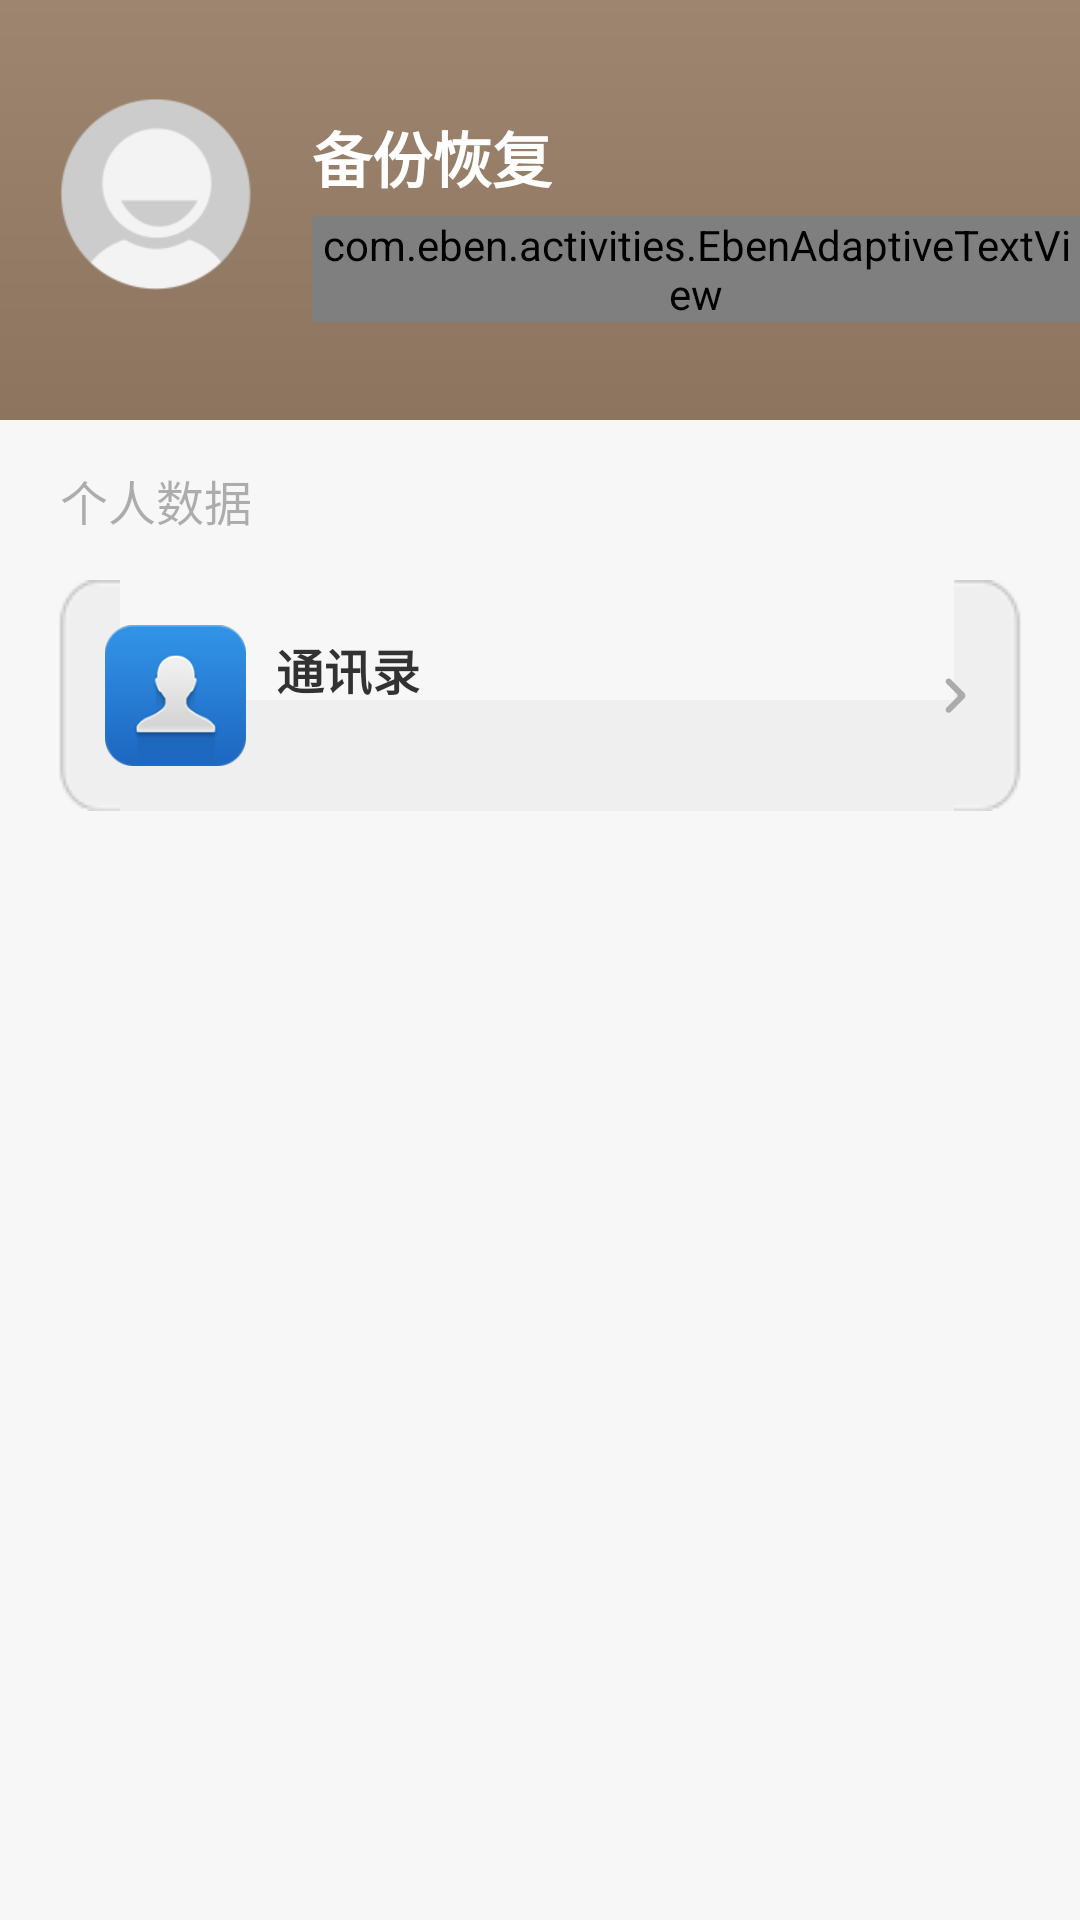

Screen size 1080x1920. Icon name, then its box in pixels as (x1, y1, x2, y2):
eben contact: (105, 625, 246, 766)
